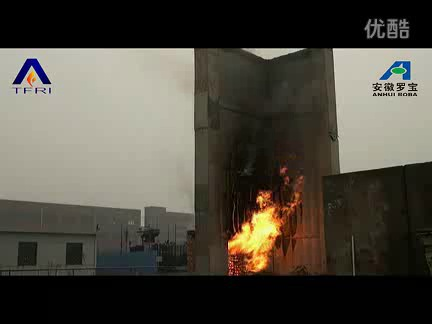fire: (225, 171, 306, 275)
